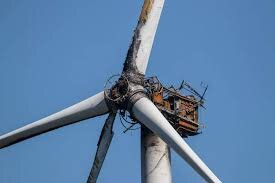faulty: (85, 55, 201, 138)
